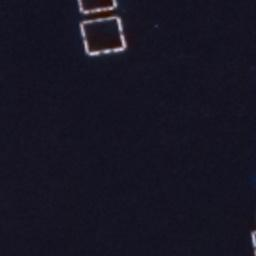square_solid: (77, 13, 131, 58), (72, 1, 120, 15)
